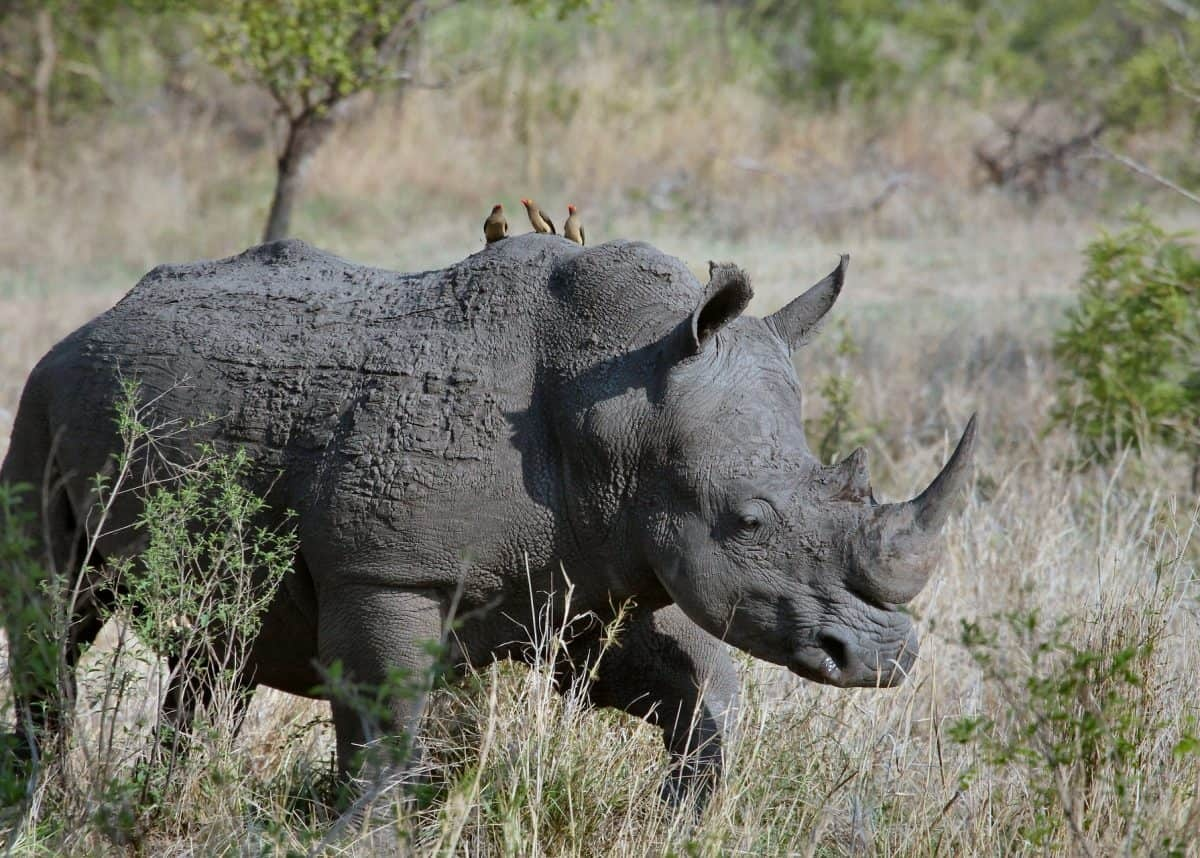rhino: (1, 232, 988, 840)
